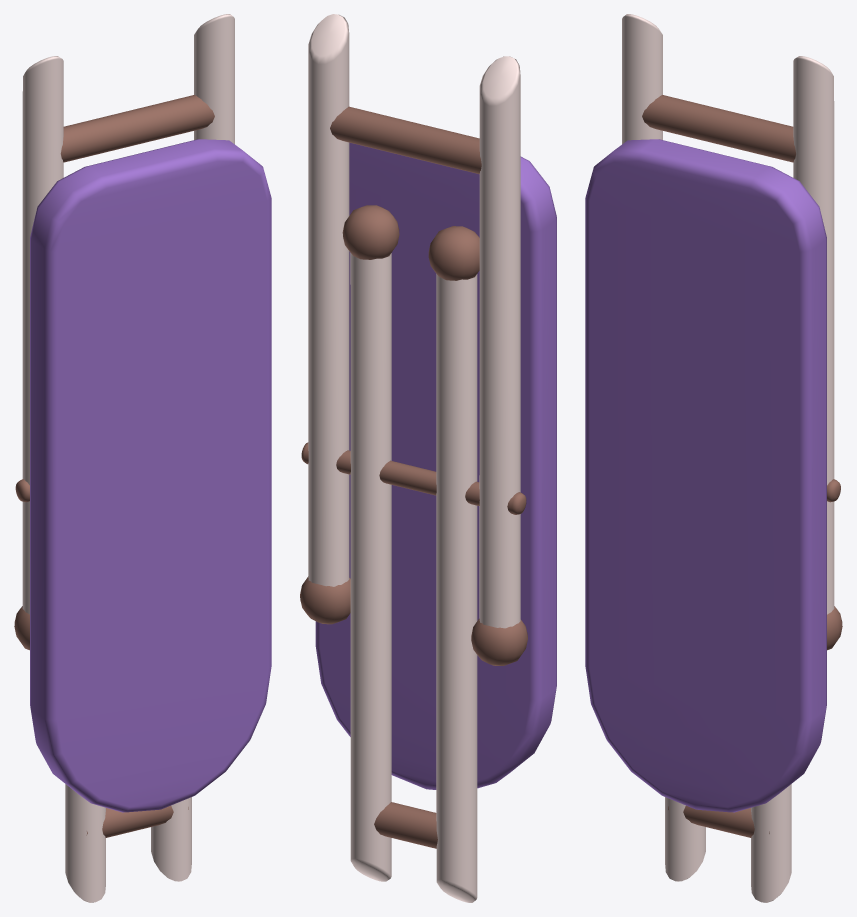
Rendered from Public_19_Ironing_Board_2.glb.
3 views of the same model, side by side, from view 1: azimuth 30°, elevation 25°; view 2: azimuth 150°, elevation 25°; view 3: azimuth 330°, elevation 25° (orthographic).
Visible parts, largest first — view 1: Public_19_Ironing_Board_2; view 2: Public_19_Ironing_Board_2; view 3: Public_19_Ironing_Board_2.
Part boxes in pixels (x1,y1,x2,y2): Public_19_Ironing_Board_2: (14, 14, 271, 902); Public_19_Ironing_Board_2: (300, 14, 556, 902); Public_19_Ironing_Board_2: (585, 14, 842, 902).
Size of the model in its own units: 0.7515 by 2.72 by 0.2748.
1 material, 1 textured.
